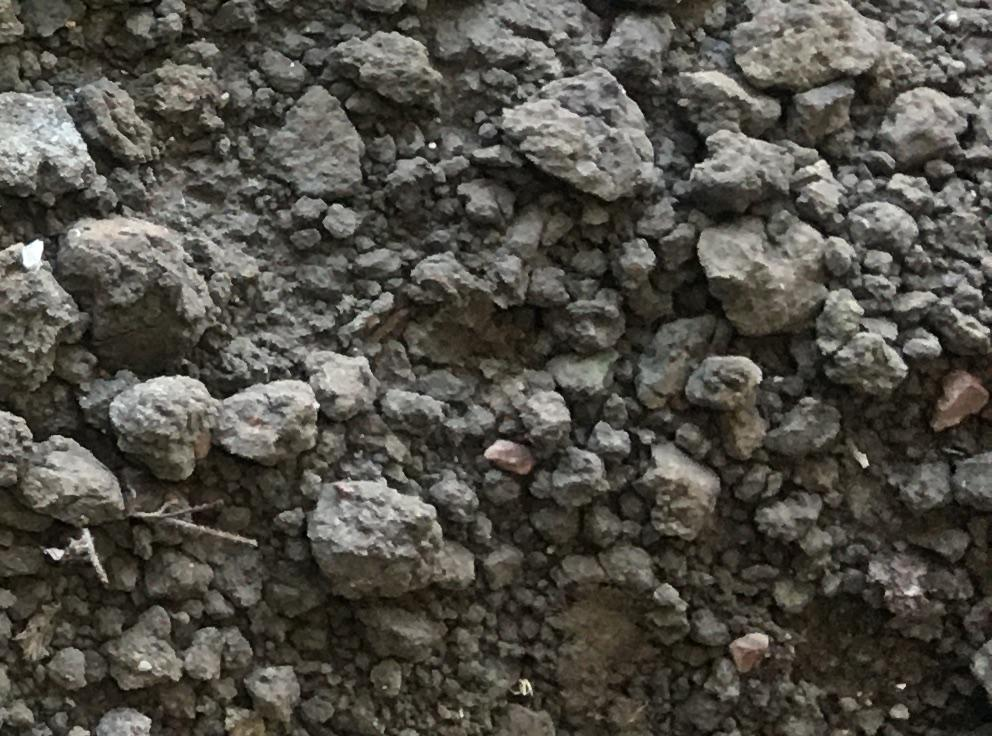block: (53, 214, 208, 368), (503, 73, 664, 205), (303, 483, 452, 603), (694, 209, 825, 342), (731, 2, 888, 92), (105, 373, 214, 479), (14, 434, 130, 527), (1, 94, 97, 204)
